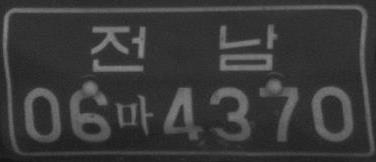0: (310, 85, 354, 142), (23, 86, 62, 143)
3: (209, 86, 251, 142)
4: (163, 86, 202, 141)
6: (67, 86, 112, 143)
7: (258, 85, 300, 144)
마: (115, 94, 153, 136)
전남_D: (90, 23, 279, 70)
